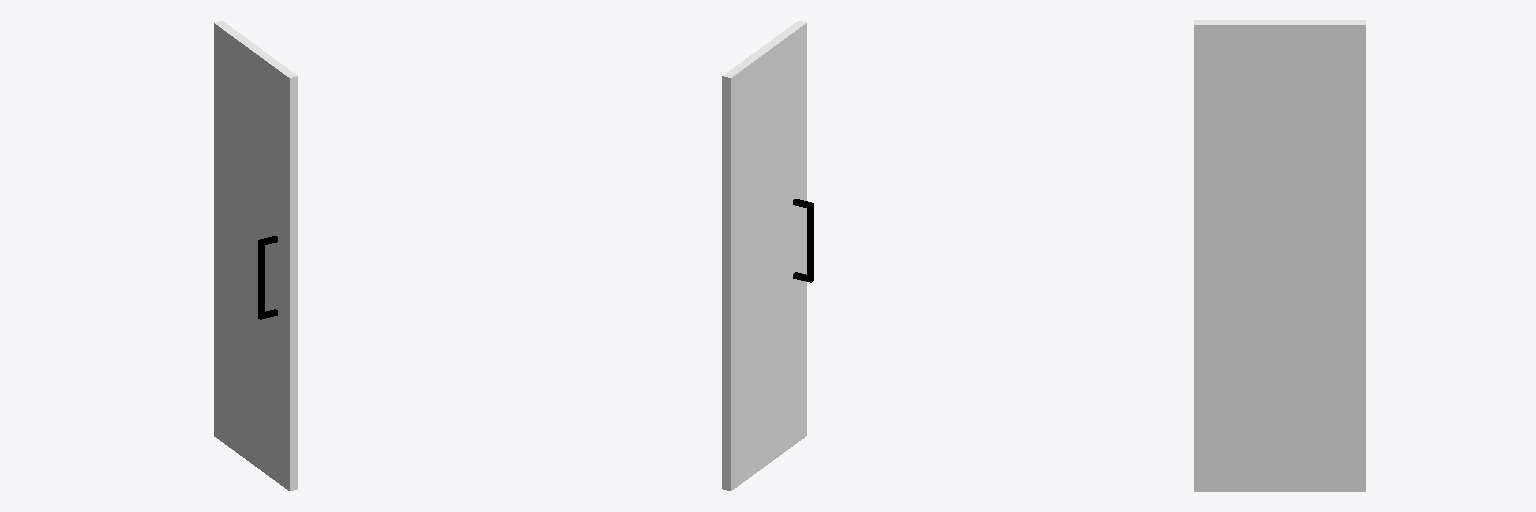
URDF robot description (shelf):
<?xml version="1.0" ?>
<!-- =================================================================================== -->
<!-- |    This document was autogenerated by xacro from shelf.urdf.xacro               | -->
<!-- |    EDITING THIS FILE BY HAND IS NOT RECOMMENDED                                 | -->
<!-- =================================================================================== -->
<robot name="shelf">
  <link name="world"/>
  <joint name="fixed" type="fixed">
    <parent link="world"/>
    <child link="shelf"/>
    <origin rpy="0 0 3.14159" xyz="0.5 0 0"/>
  </joint>
  <link name="shelf"/>
  <link name="door">
    <visual>
      <origin rpy="0 0 0" xyz="0 0.15 0"/>
      <geometry>
        <box size="0.02 0.3 0.9"/>
      </geometry>
      <material name="door_material">
        <color rgba="1.0 1.0 1.0 1"/>
      </material>
    </visual>
    <collision>
      <origin rpy="0 0 0" xyz="0 0.15 0"/>
      <geometry>
        <box size="0.02 0.3 0.9"/>
      </geometry>
    </collision>
  </link>
  <joint name="articulation_joint" type="revolute">
    <parent link="shelf"/>
    <child link="door"/>
    <dynamics damping="2.0" friction="4.0"/>
    <origin xyz="0 -0.3 0.45"/>
    <axis xyz="0 0 -1"/>
    <limit effort="100" lower="0" upper="1.57" velocity="10.0"/>
  </joint>
  <link name="handle">
    <inertial>
      <origin rpy="0 0 0" xyz="0 0 0"/>
      <mass value="0.1"/>
      <inertia ixx="0.001" ixy="0" ixz="0" iyy="0.001" iyz="0" izz="0.001"/>
    </inertial>
    <visual>
      <origin rpy="0 0 0" xyz="0 0 0"/>
      <geometry>
        <box size="0.01 0.01 0.17"/>
      </geometry>
      <material name="handle_material">
        <color rgba="0.0 0.0 0.0 1"/>
      </material>
    </visual>
    <collision>
      <origin rpy="0 0 0" xyz="0 0 0"/>
      <geometry>
        <box size="0.01 0.01 0.17"/>
      </geometry>
    </collision>
  </link>
  <link name="handle_support_left">
    <inertial>
      <origin rpy="0 0 0" xyz="0 0 0"/>
      <mass value="0.1"/>
      <inertia ixx="0.001" ixy="0" ixz="0" iyy="0.001" iyz="0" izz="0.001"/>
    </inertial>
    <visual>
      <origin rpy="0 0 0" xyz="0 0 0"/>
      <geometry>
        <box size="0.036 0.01 0.01"/>
      </geometry>
      <material name="handle_material">
        <color rgba="0.0 0.0 0.0 1"/>
      </material>
    </visual>
    <collision>
      <origin rpy="0 0 0" xyz="0 0 0"/>
      <geometry>
        <box size="0.036 0.01 0.01"/>
      </geometry>
    </collision>
  </link>
  <link name="handle_support_right">
    <inertial>
      <origin rpy="0 0 0" xyz="0 0 0"/>
      <mass value="0.1"/>
      <inertia ixx="0.001" ixy="0" ixz="0" iyy="0.001" iyz="0" izz="0.001"/>
    </inertial>
    <visual>
      <origin rpy="0 0 0" xyz="0 0 0"/>
      <geometry>
        <box size="0.036 0.01 0.01"/>
      </geometry>
      <material name="handle_material">
        <color rgba="0.0 0.0 0.0 1"/>
      </material>
    </visual>
    <collision>
      <origin rpy="0 0 0" xyz="0 0 0"/>
      <geometry>
        <box size="0.036 0.01 0.01"/>
      </geometry>
    </collision>
  </link>
  <joint name="handle_joint" type="fixed">
    <parent link="door"/>
    <child link="handle"/>
    <origin rpy="0 0 0" xyz="0.046 0.25 0"/>
    <!-- height handle + half the width door, 0.30 minus some offset -->
  </joint>
  <joint name="handle_support_left_joint" type="fixed">
    <parent link="handle"/>
    <child link="handle_support_left"/>
    <origin rpy="0 0 0" xyz="-0.018 0 0.08"/>
  </joint>
  <joint name="handle_support_right_joint" type="fixed">
    <parent link="handle"/>
    <child link="handle_support_right"/>
    <origin rpy="0 0 0" xyz="-0.018 0 -0.08"/>
  </joint>
</robot>

--- What the picture shows (computed from the rendered views, not written in the file) ---
The picture shows the robot from 3 angles, left to right: view 1: azimuth 30°, elevation 25°; view 2: azimuth 150°, elevation 25°; view 3: azimuth 270°, elevation 25°; orthographic projection.
Model shelf with 6 links and 5 joints (1 revolute, 4 fixed), rooted at world, posed all joints at 0.
Visible links, largest first — view 1: door, handle; view 2: door, handle; view 3: door.
Boxes of the visible links, <box> form: door: <box>214,21,297,490</box>; handle: <box>258,239,264,319</box>; door: <box>722,21,806,490</box>; handle: <box>807,202,813,282</box>; door: <box>1194,20,1365,491</box>.
Size in the robot's own frame: 0.061 by 0.3 by 0.9 metres.
Geometry: primitives only (box / cylinder / sphere), no mesh files.